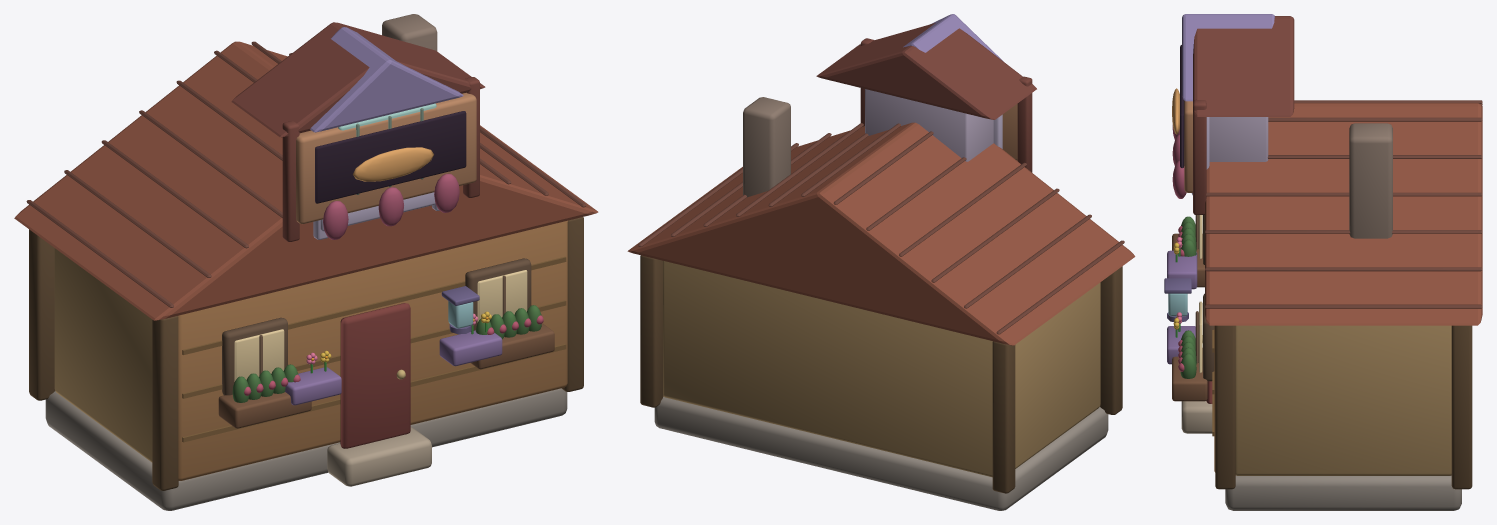
File: res_moss3.glb
The picture shows the model from 3 angles, left to right: view 1: azimuth 30°, elevation 25°; view 2: azimuth 150°, elevation 25°; view 3: azimuth 270°, elevation 25°; orthographic projection. The views are drawn at different scales.
Parts seen in each view (by area): view 1: base, roof, obsidian, walls, flower, frame, berry; view 2: base, roof, frame, walls; view 3: base, roof, flower, frame, walls, obsidian, berry.
Part boxes in pixels (<box>): base: <box>14,14,598,510</box>; roof: <box>231,22,485,137</box>; obsidian: <box>315,111,466,203</box>; walls: <box>296,92,476,223</box>; flower: <box>285,311,502,405</box>; frame: <box>282,77,479,241</box>; berry: <box>323,173,459,239</box>; base: <box>627,14,1135,510</box>; roof: <box>816,23,1036,119</box>; frame: <box>860,38,1032,172</box>; walls: <box>1002,103,1017,160</box>; base: <box>1164,14,1482,510</box>; roof: <box>1193,16,1294,116</box>; flower: <box>1167,237,1197,364</box>; frame: <box>1193,99,1206,214</box>; walls: <box>1184,100,1192,192</box>; obsidian: <box>1172,45,1184,168</box>; berry: <box>1172,125,1186,198</box>.
Size of the model in its own units: 3.6 by 3.26 by 2.32.
